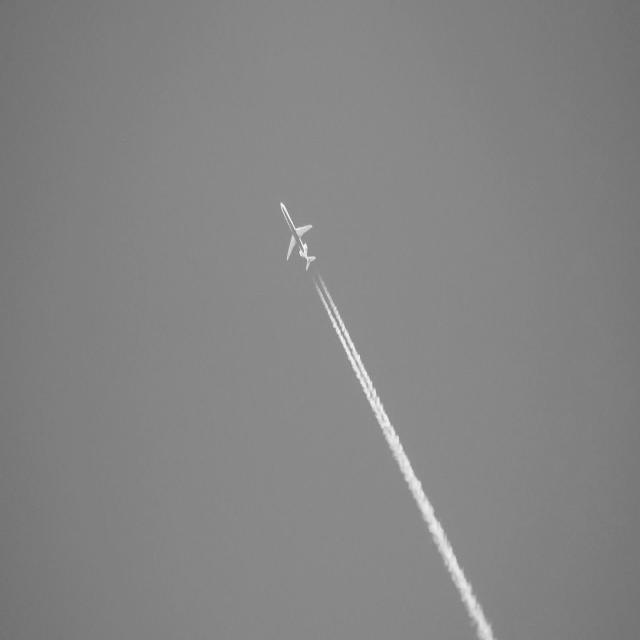aeroplane: (280, 198, 318, 278)
